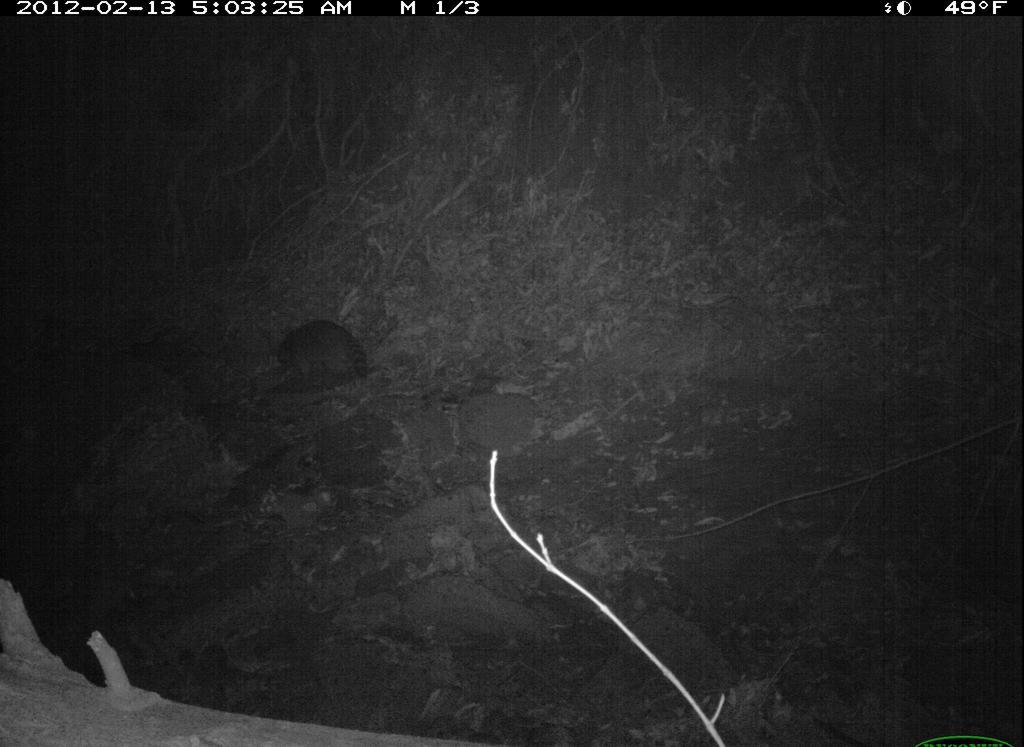raccoon: (265, 308, 386, 391)
